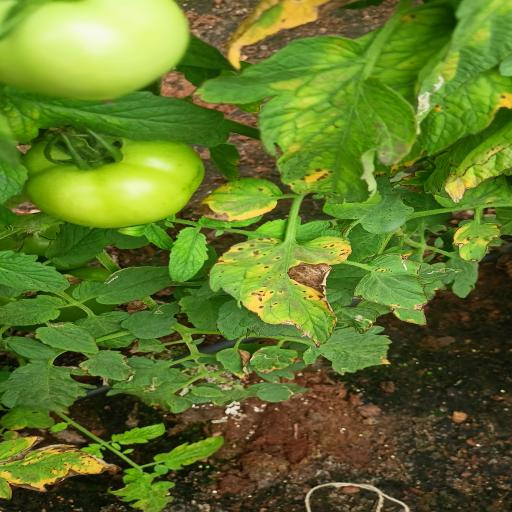disease_tomato: (204, 235, 354, 348), (182, 174, 282, 224)
